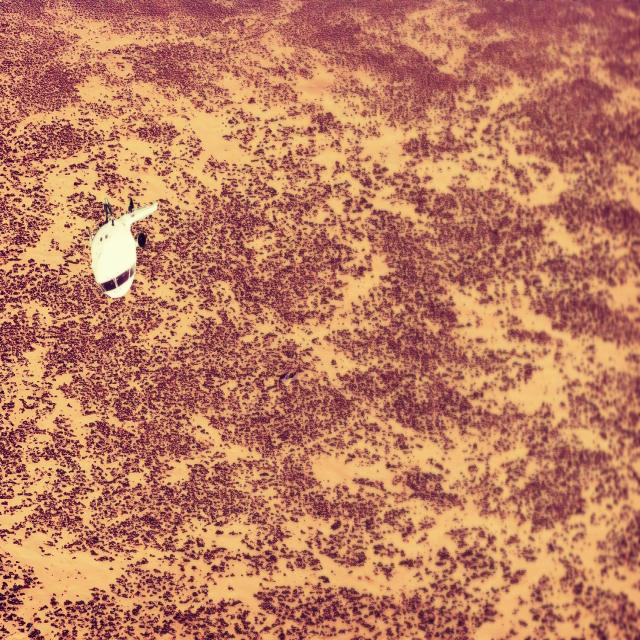airplane: (86, 194, 158, 299)
